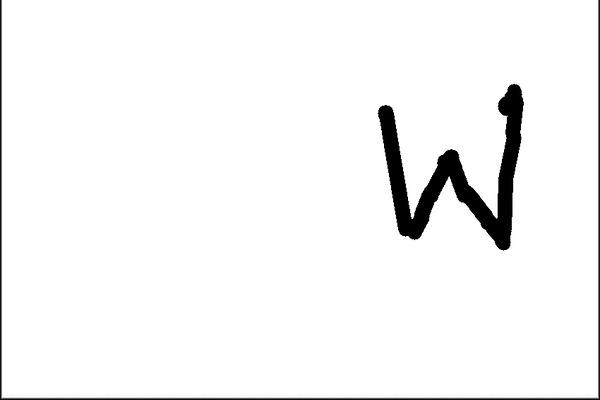w: (362, 67, 538, 268)
